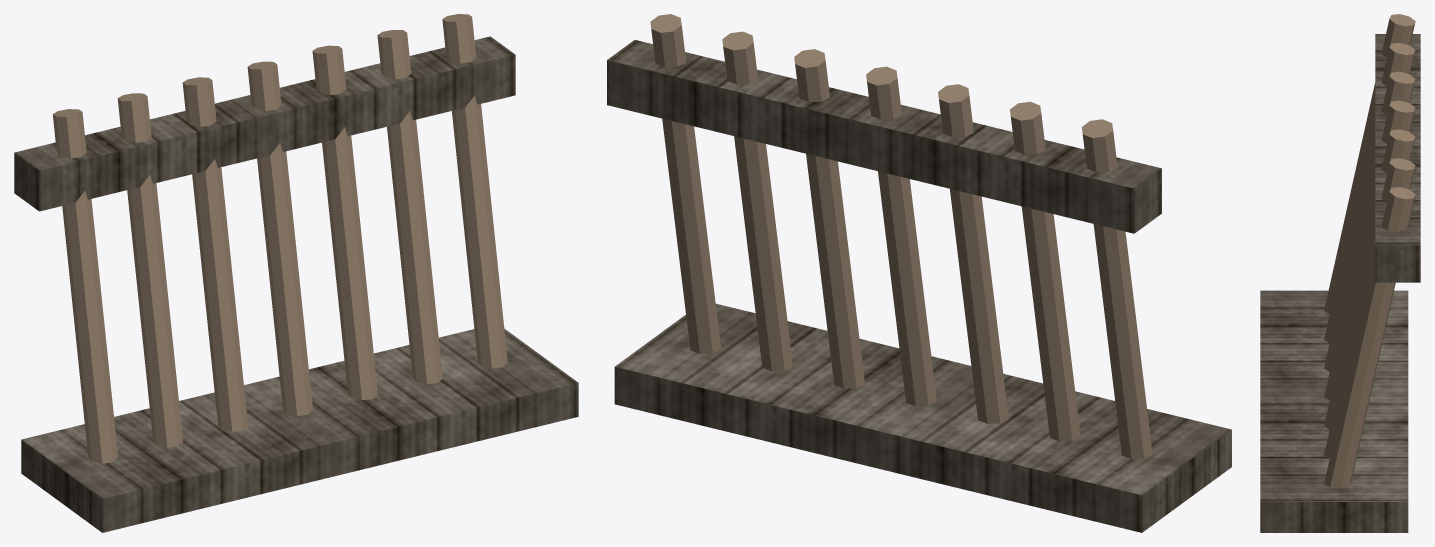
The model's file is turm_waffenstaender.glb.
3 renders of one model, left to right at view 1: azimuth 30°, elevation 25°; view 2: azimuth 150°, elevation 25°; view 3: azimuth 270°, elevation 25°, orthographic. The views are drawn at different scales.
Parts seen in each view (by area): view 1: turm_waffenstaender_000, turm_waffenstaender_008, turm_waffenstaender_005, turm_waffenstaender_003, turm_waffenstaender_007, turm_waffenstaender_004, turm_waffenstaender_002, turm_waffenstaender_006, turm_waffenstaender_001; view 2: turm_waffenstaender_000, turm_waffenstaender_008, turm_waffenstaender_004, turm_waffenstaender_006, turm_waffenstaender_002, turm_waffenstaender_001, turm_waffenstaender_007, turm_waffenstaender_003, turm_waffenstaender_005; view 3: turm_waffenstaender_000, turm_waffenstaender_007, turm_waffenstaender_008, turm_waffenstaender_004, turm_waffenstaender_005, turm_waffenstaender_006, turm_waffenstaender_001, turm_waffenstaender_002, turm_waffenstaender_003.
Boxes of the visible parts, bbox=[...] form: turm_waffenstaender_000: bbox=[21, 328, 578, 532]; turm_waffenstaender_008: bbox=[14, 36, 515, 211]; turm_waffenstaender_005: bbox=[312, 45, 377, 400]; turm_waffenstaender_003: bbox=[182, 77, 247, 431]; turm_waffenstaender_007: bbox=[442, 14, 507, 368]; turm_waffenstaender_004: bbox=[247, 61, 312, 416]; turm_waffenstaender_002: bbox=[117, 93, 183, 447]; turm_waffenstaender_006: bbox=[377, 30, 442, 384]; turm_waffenstaender_001: bbox=[52, 109, 118, 463]; turm_waffenstaender_000: bbox=[614, 303, 1231, 532]; turm_waffenstaender_008: bbox=[607, 40, 1161, 233]; turm_waffenstaender_004: bbox=[866, 66, 936, 406]; turm_waffenstaender_006: bbox=[722, 31, 792, 371]; turm_waffenstaender_002: bbox=[1010, 101, 1080, 441]; turm_waffenstaender_001: bbox=[1082, 119, 1152, 458]; turm_waffenstaender_007: bbox=[650, 14, 721, 353]; turm_waffenstaender_003: bbox=[938, 84, 1008, 423]; turm_waffenstaender_005: bbox=[794, 49, 864, 388]; turm_waffenstaender_000: bbox=[1260, 290, 1408, 532]; turm_waffenstaender_007: bbox=[1324, 187, 1415, 488]; turm_waffenstaender_008: bbox=[1375, 34, 1420, 282]; turm_waffenstaender_004: bbox=[1324, 100, 1415, 400]; turm_waffenstaender_005: bbox=[1324, 129, 1415, 429]; turm_waffenstaender_006: bbox=[1324, 158, 1415, 458]; turm_waffenstaender_001: bbox=[1324, 14, 1415, 313]; turm_waffenstaender_002: bbox=[1324, 43, 1415, 342]; turm_waffenstaender_003: bbox=[1324, 71, 1415, 371].
Bounding box in the file's own units: 2.2 × 1.57 × 0.705.
1 material, 1 textured.
